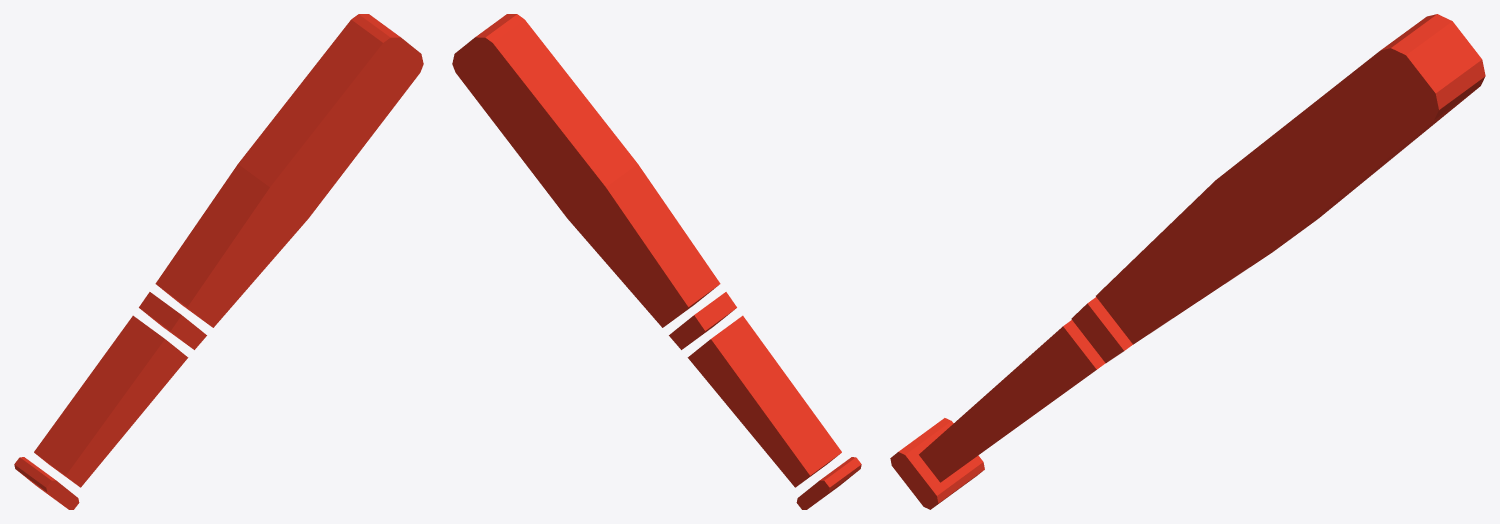
The model's file is Icon_BaseballBat_01.fbx.
3 views of the same model, side by side, from view 1: azimuth 30°, elevation 25°; view 2: azimuth 150°, elevation 25°; view 3: azimuth 330°, elevation 25° (orthographic). The views are drawn at different scales.
Visible parts, largest first — view 1: Icon_BaseballBat_01; view 2: Icon_BaseballBat_01; view 3: Icon_BaseballBat_01.
Part boxes in pixels (<box>): Icon_BaseballBat_01: <box>14,14,423,509</box>; Icon_BaseballBat_01: <box>452,14,861,509</box>; Icon_BaseballBat_01: <box>890,14,1485,509</box>.
Size of the model in its own units: 82.01 by 82.01 by 12.06.
